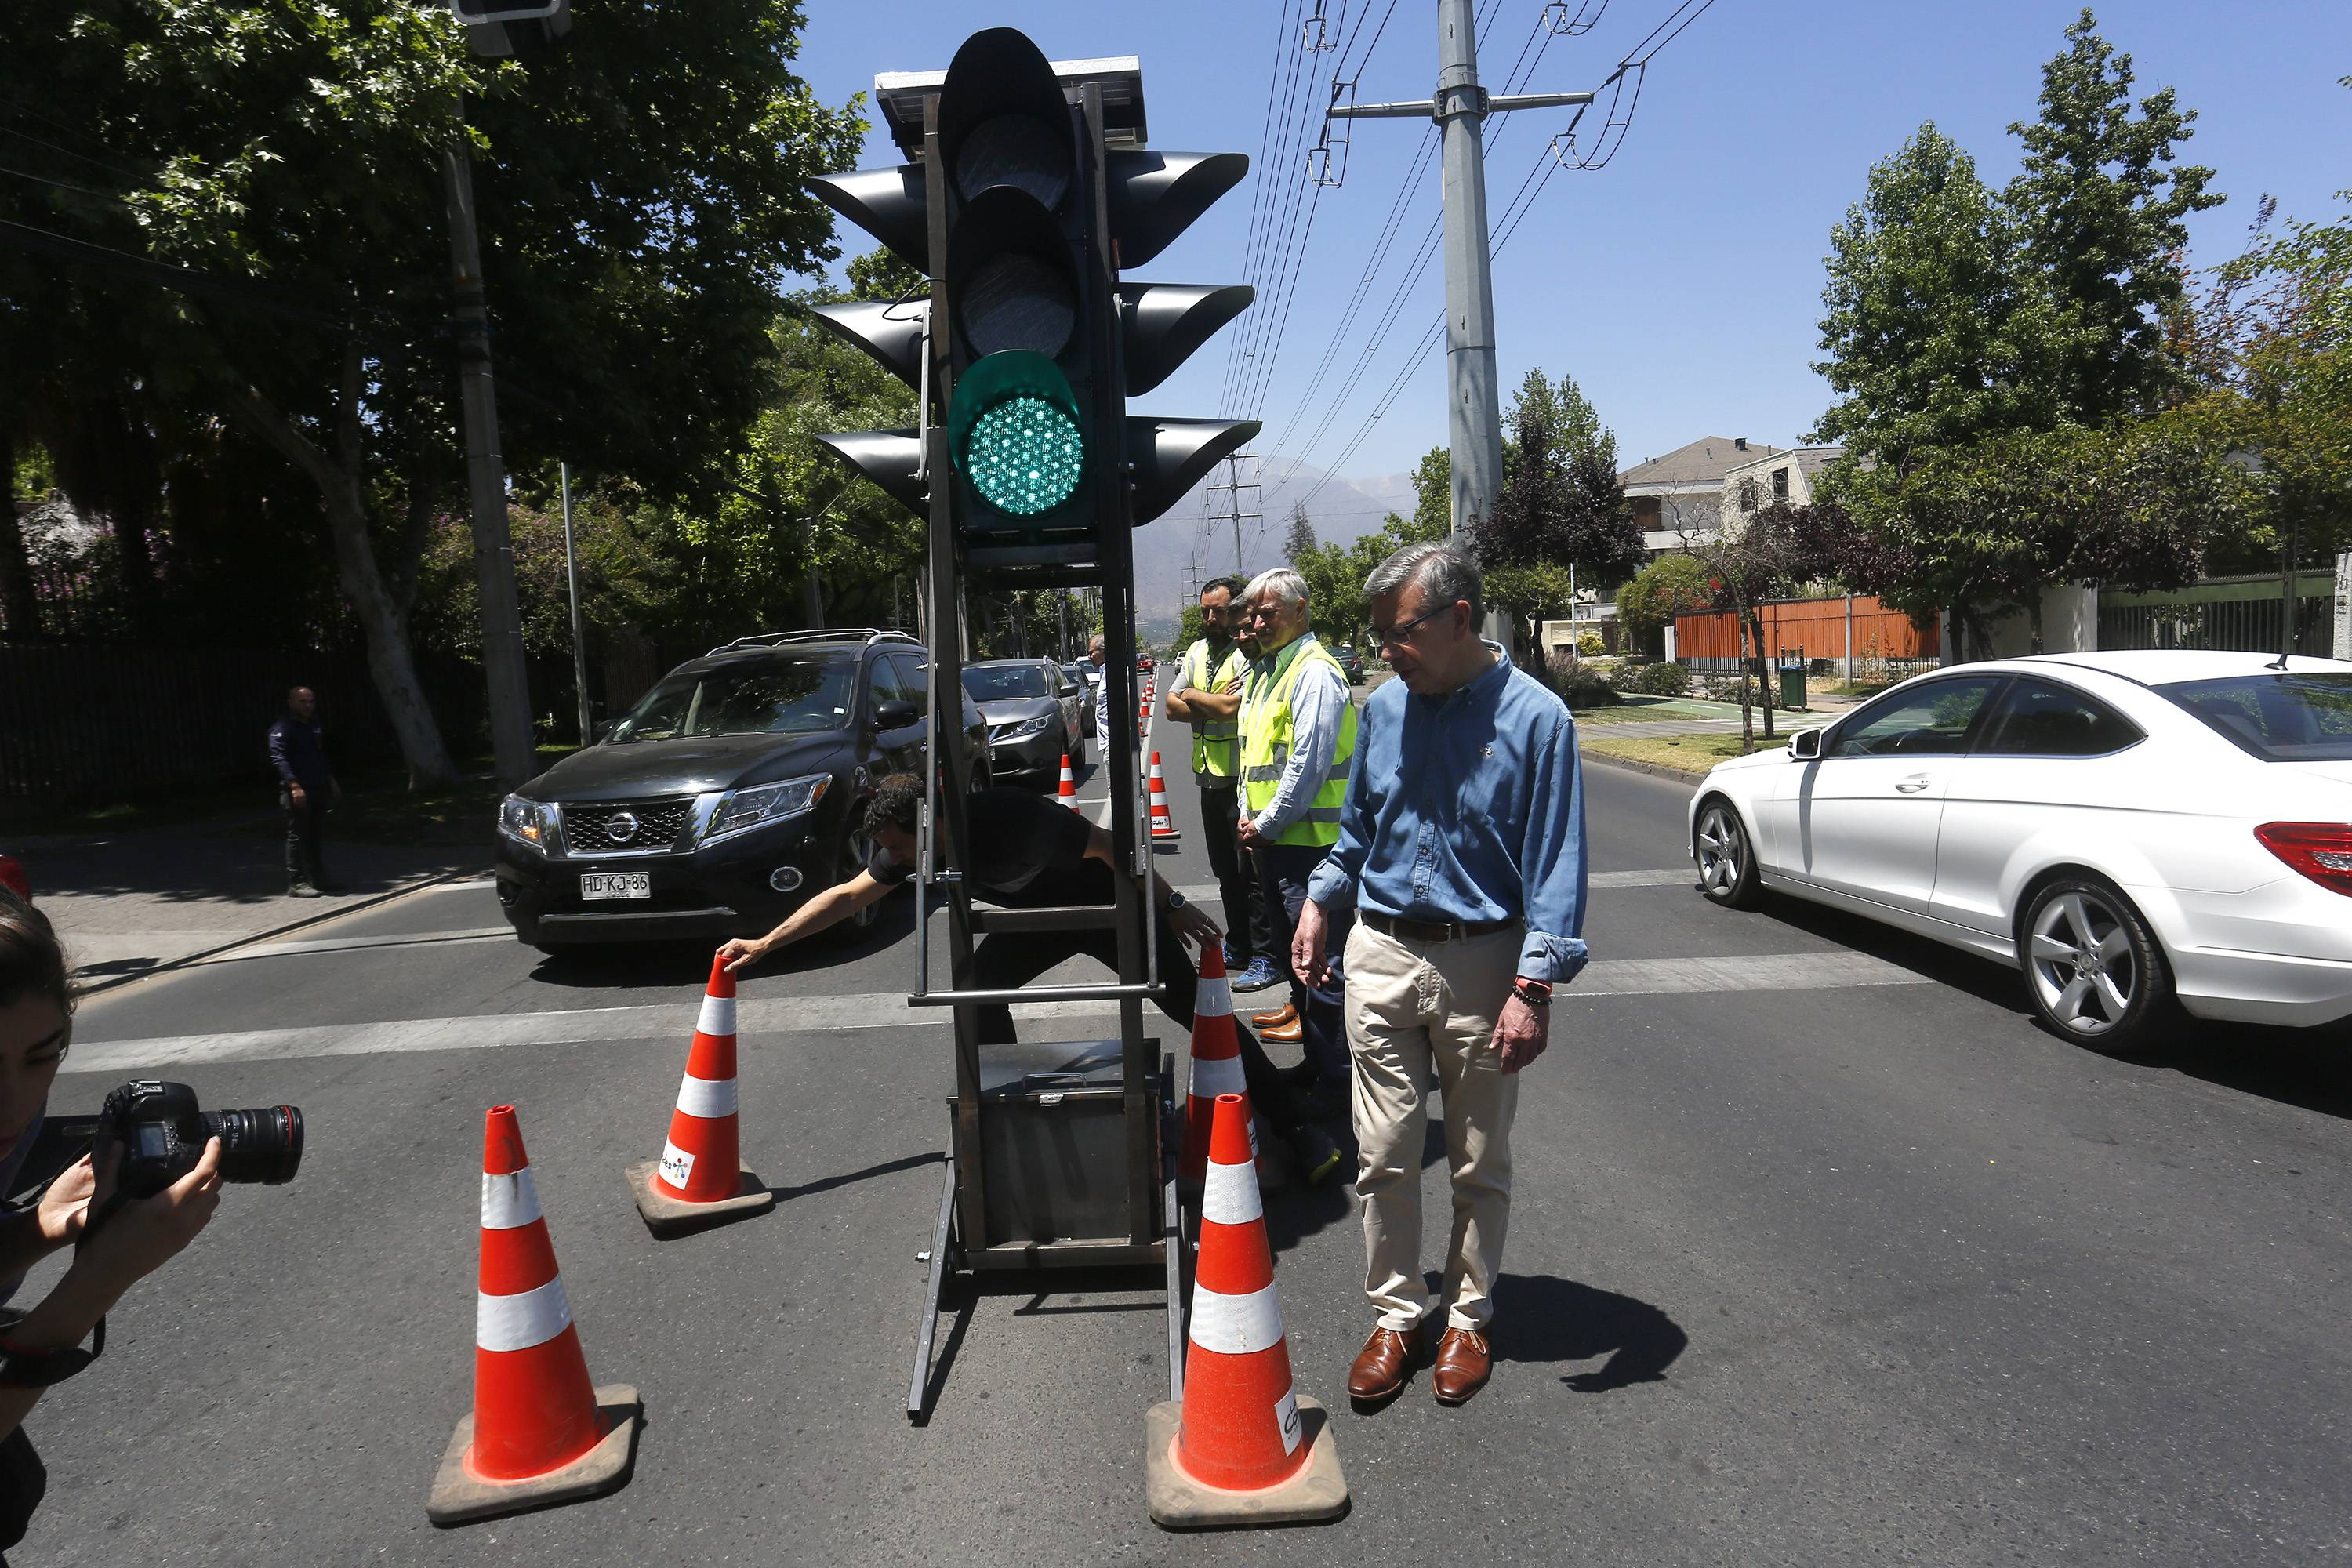Arbol: (1, 2, 760, 559)
Persona: (1315, 546, 1536, 1408), (1220, 574, 1372, 1187), (1163, 569, 1291, 993)
Poste: (920, 541, 1170, 1299)
Semaforo: (797, 42, 1267, 536)
Vehiculo: (1674, 638, 2352, 1076), (507, 624, 944, 975)
